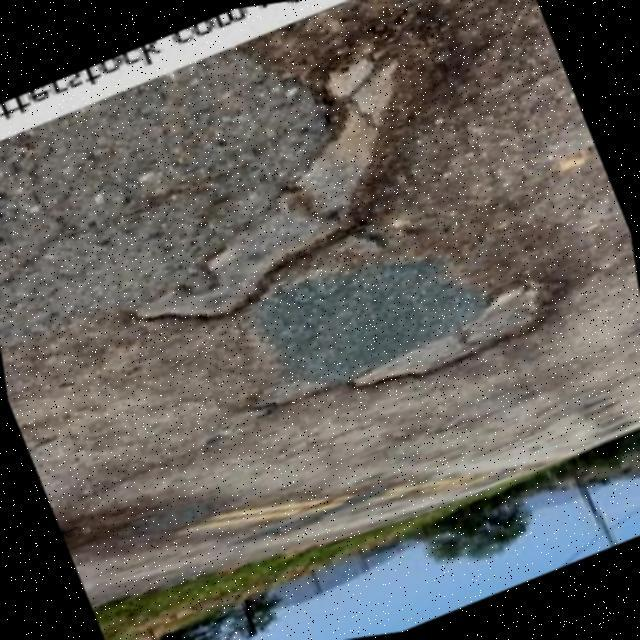Pothole: (134, 55, 400, 328), (348, 283, 570, 392)
